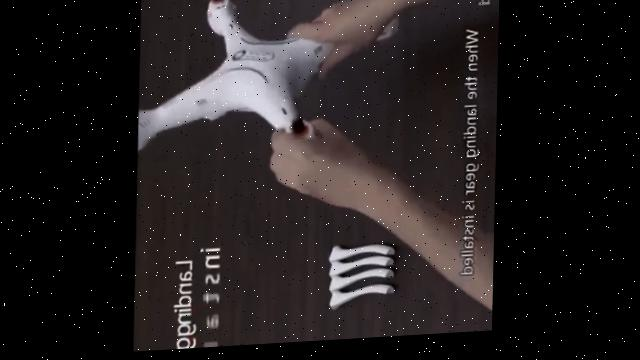drone: (137, 0, 319, 154)
